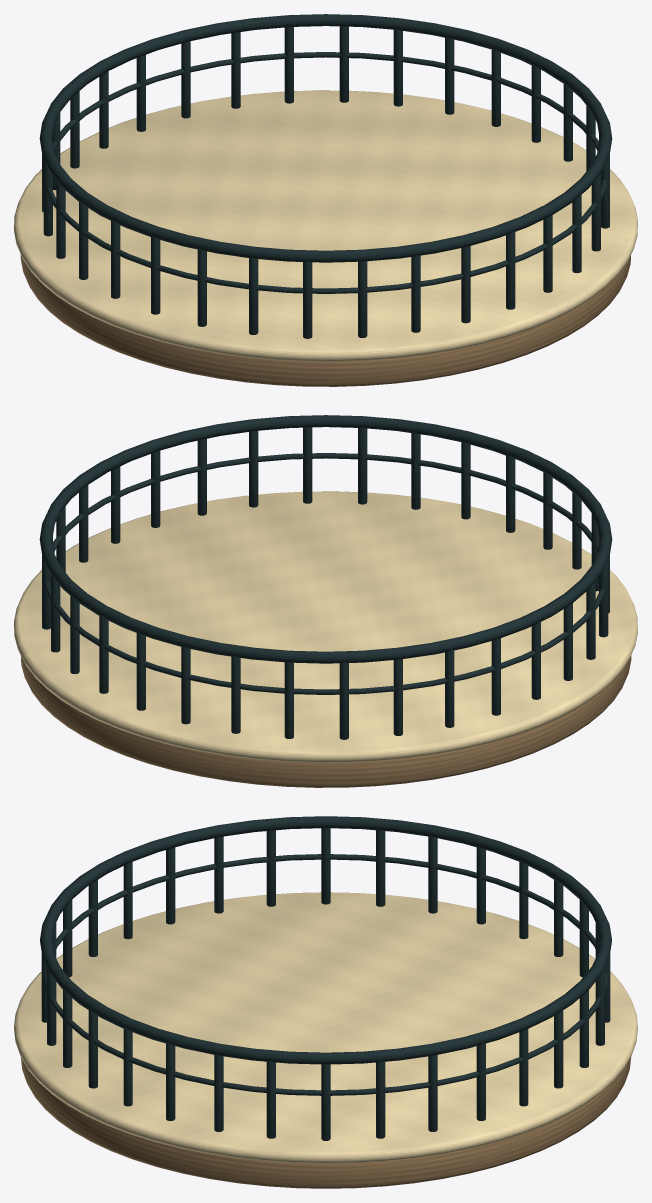
File: Lighthouse_Gallery.fbx
The picture shows the model from 3 angles, top to bottom: view 1: azimuth 30°, elevation 25°; view 2: azimuth 150°, elevation 25°; view 3: azimuth 270°, elevation 25°; orthographic projection.
Parts seen in each view (by area): view 1: Lighthouse_Gallery; view 2: Lighthouse_Gallery; view 3: Lighthouse_Gallery.
Boxes of the visible parts, x1=… form: Lighthouse_Gallery: x1=14, y1=14, x2=637, y2=386; Lighthouse_Gallery: x1=14, y1=415, x2=637, y2=787; Lighthouse_Gallery: x1=14, y1=816, x2=637, y2=1188.
Bounding box in the file's own units: 736 × 736 × 166.
